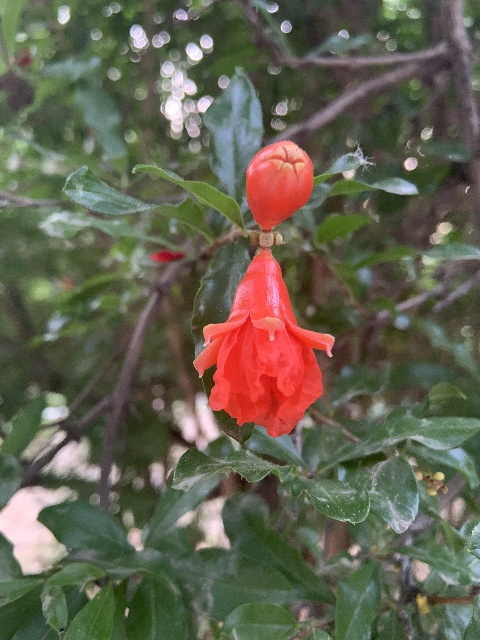bud: (245, 140, 313, 232)
flower: (193, 247, 333, 439)
